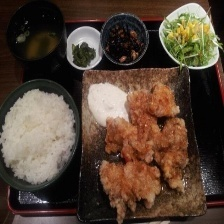rice: (0, 87, 78, 186)
